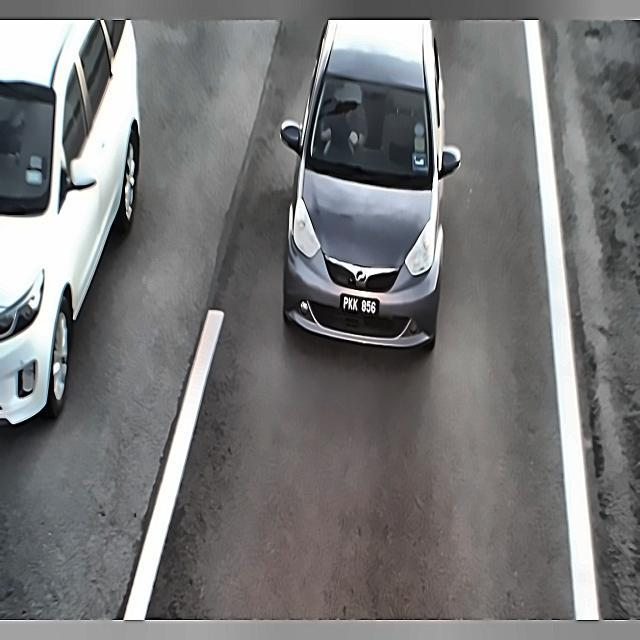car: (339, 290, 380, 322)
